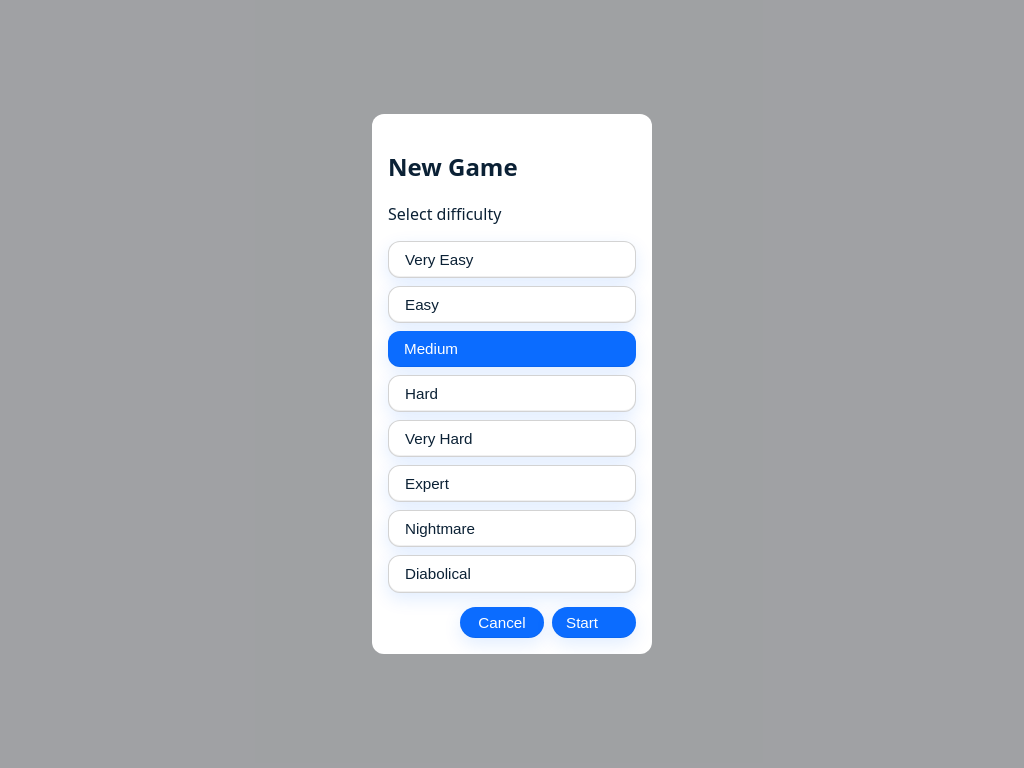
Test: NewGameModal › stops spinner immediately when Cancel clicked during generation
Click the button "Start" at coordinates (594, 622), box [552,607,636,638]
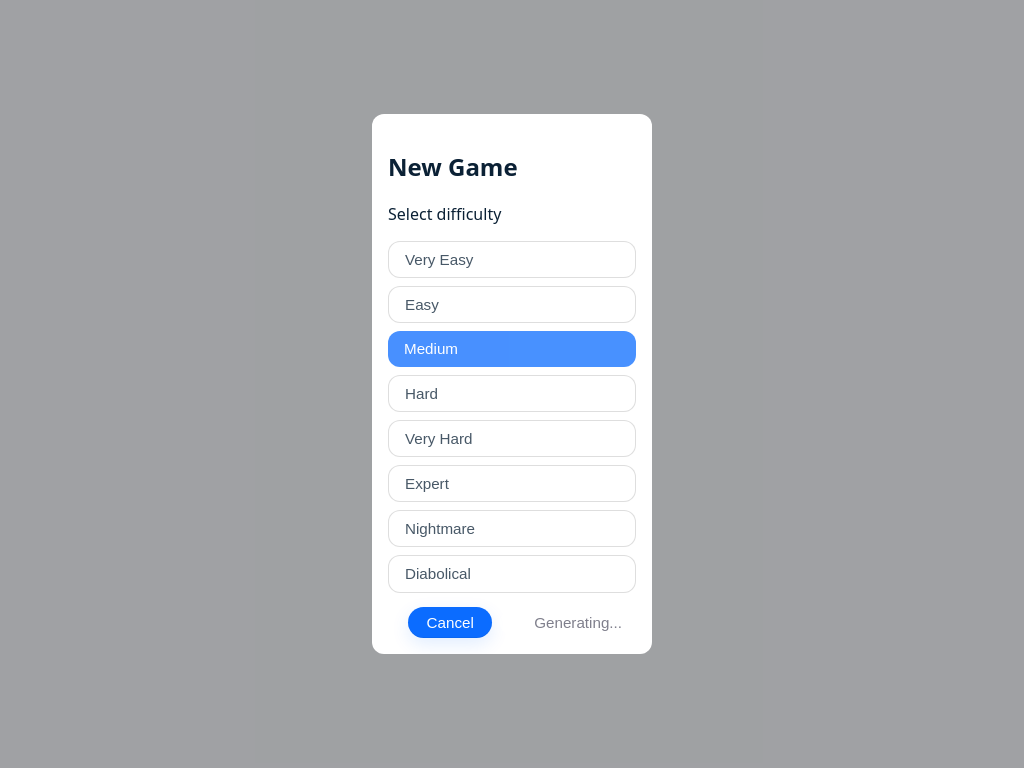
Expected: the button "Generating..." is shown, [500,607,636,638]
Click the button "Cancel" at coordinates (450, 622), box [408,607,492,638]
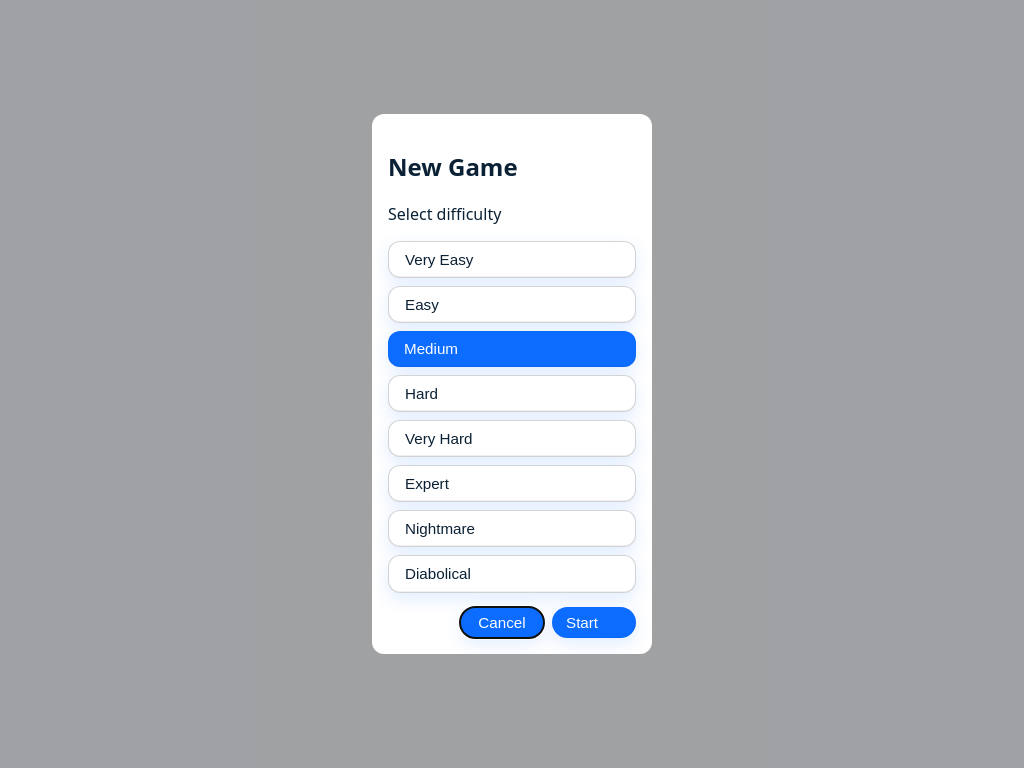
Expected: the button "Generating" is gone
